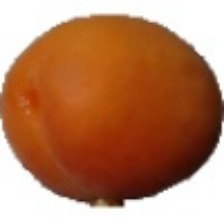apricot: (65, 20, 203, 174)
